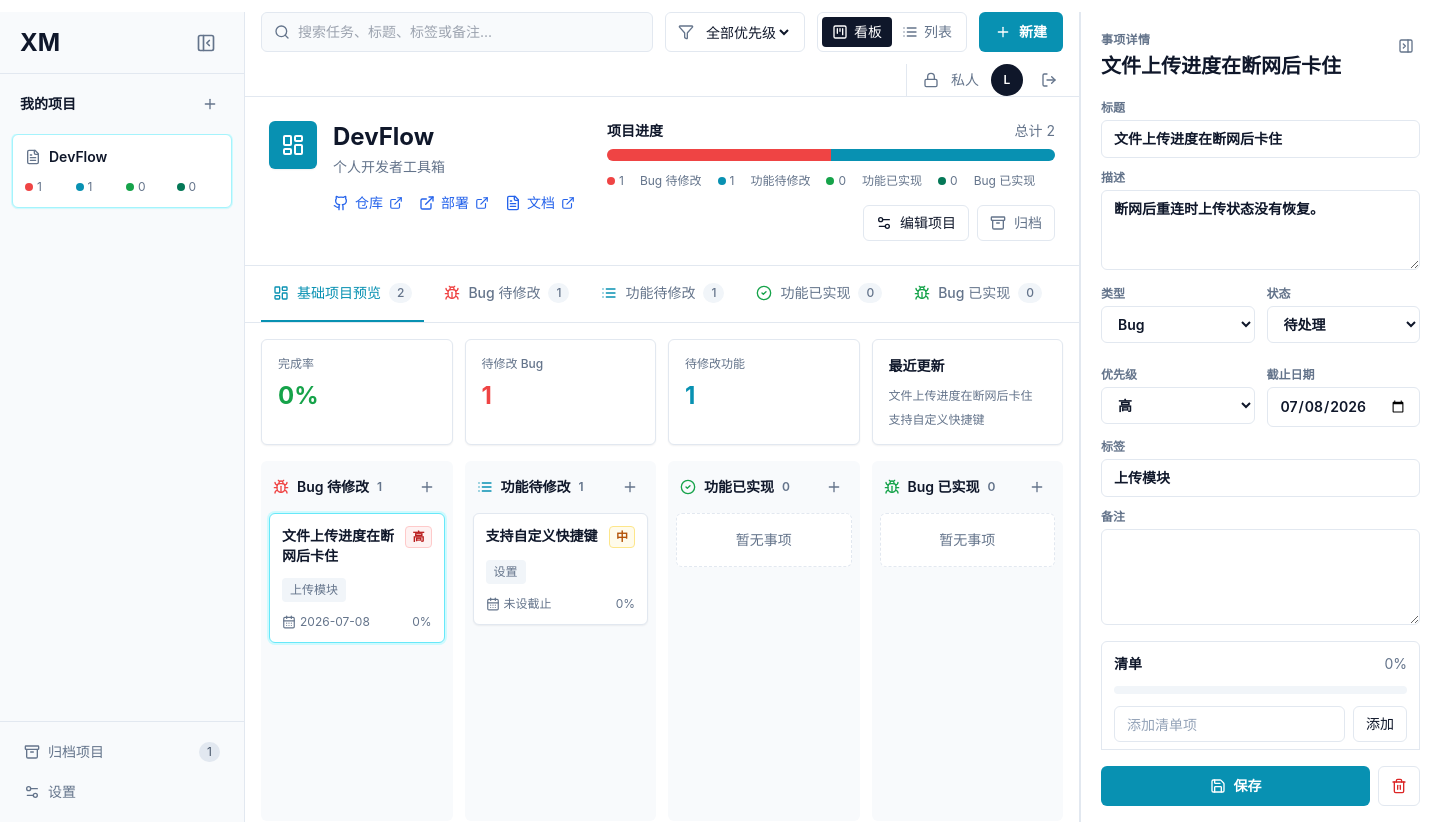
Test: App › switches between board and list views
Click the button "列表" at (927, 32), box [892,17,962,47]
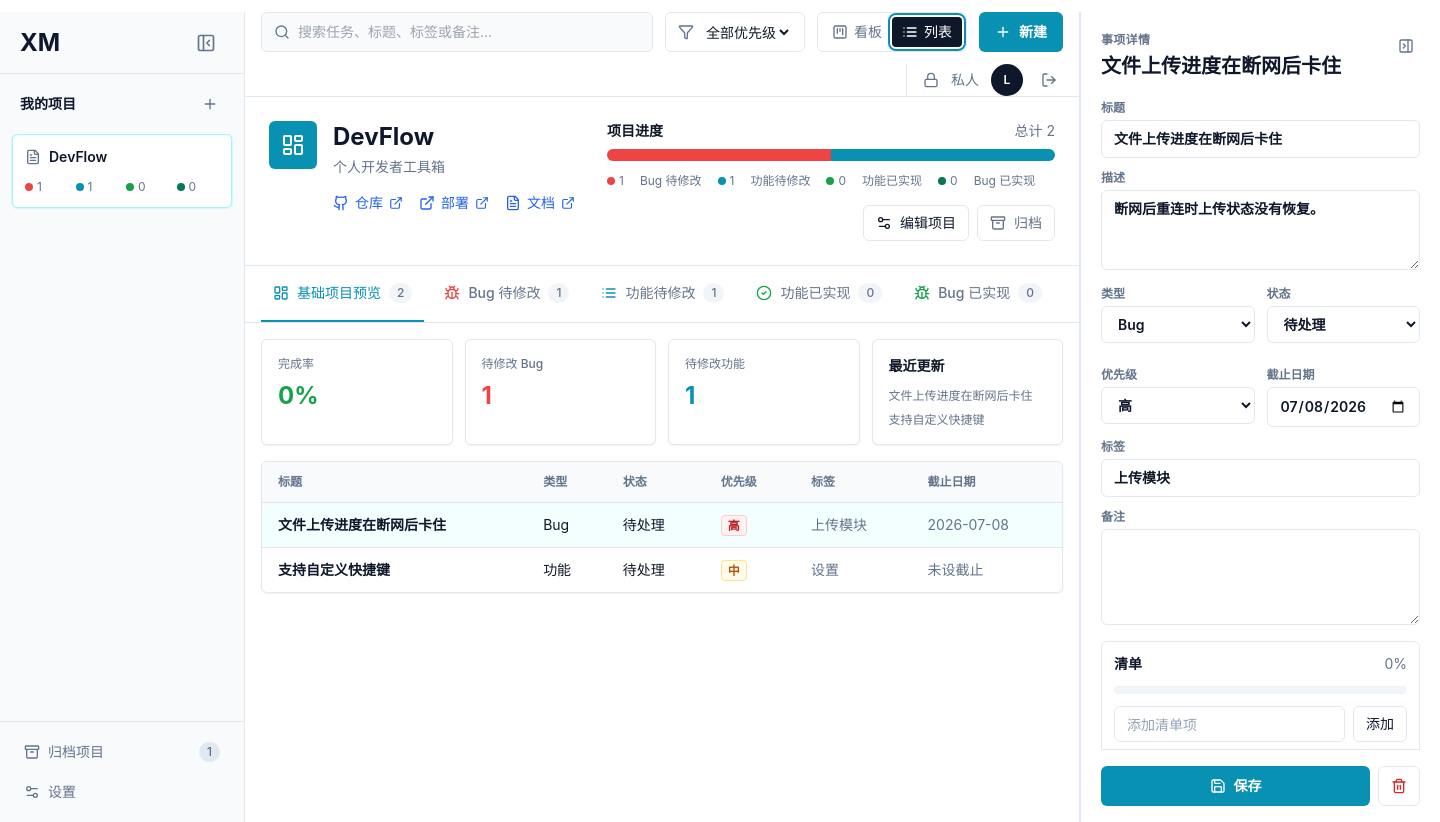
Now the table is shown, box [262,462,1062,592]
